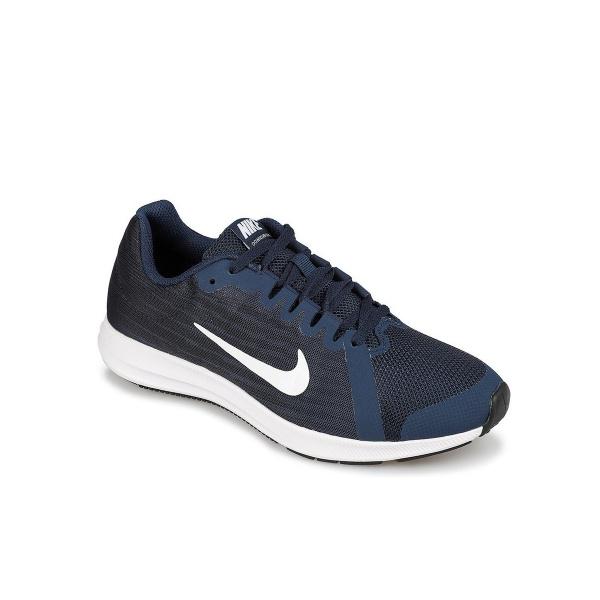nike: (188, 314, 313, 405)
